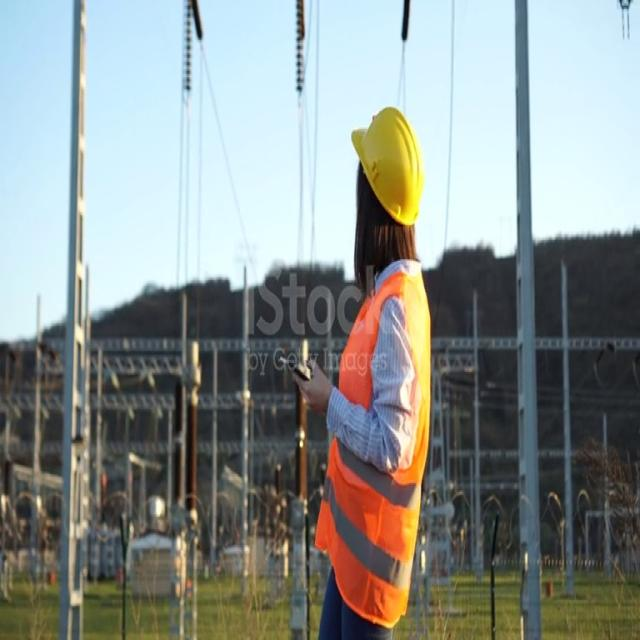capacete: (339, 99, 428, 228)
